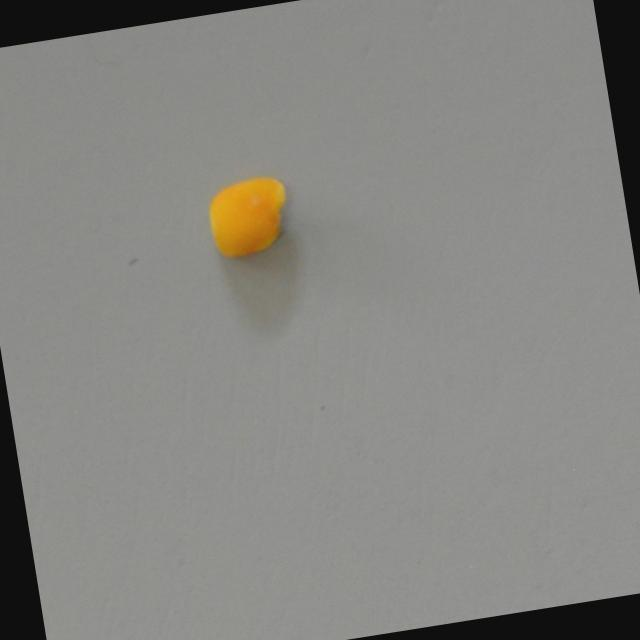dañado: (180, 144, 305, 273)
